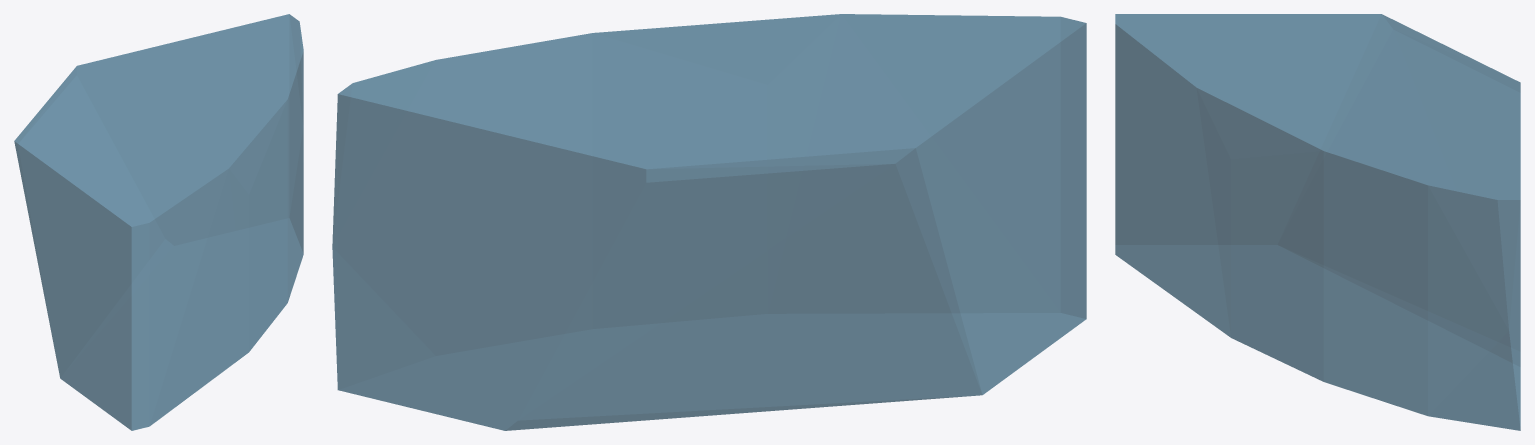
3 views of the same model, side by side, from view 1: azimuth 30°, elevation 25°; view 2: azimuth 150°, elevation 25°; view 3: azimuth 270°, elevation 25° (orthographic). The views are drawn at different scales.
Parts seen in each view (by area): view 1: Shape_IndexedFaceSet.029_Shape_IndexedFaceSet.5705; view 2: Shape_IndexedFaceSet.029_Shape_IndexedFaceSet.5705; view 3: Shape_IndexedFaceSet.029_Shape_IndexedFaceSet.5705.
Boxes of the visible parts, x1=… form: Shape_IndexedFaceSet.029_Shape_IndexedFaceSet.5705: x1=14, y1=14, x2=303, y2=430; Shape_IndexedFaceSet.029_Shape_IndexedFaceSet.5705: x1=332, y1=14, x2=1086, y2=430; Shape_IndexedFaceSet.029_Shape_IndexedFaceSet.5705: x1=1115, y1=14, x2=1520, y2=430.
Size of the model in its own units: 0.1232 by 0.0695 by 0.1105.
